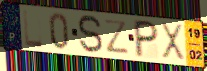0: (48, 12, 71, 52)
L: (22, 9, 46, 49)
P: (133, 18, 160, 59)
S: (76, 13, 104, 55)
X: (160, 21, 186, 63)
Z: (103, 18, 130, 55)
